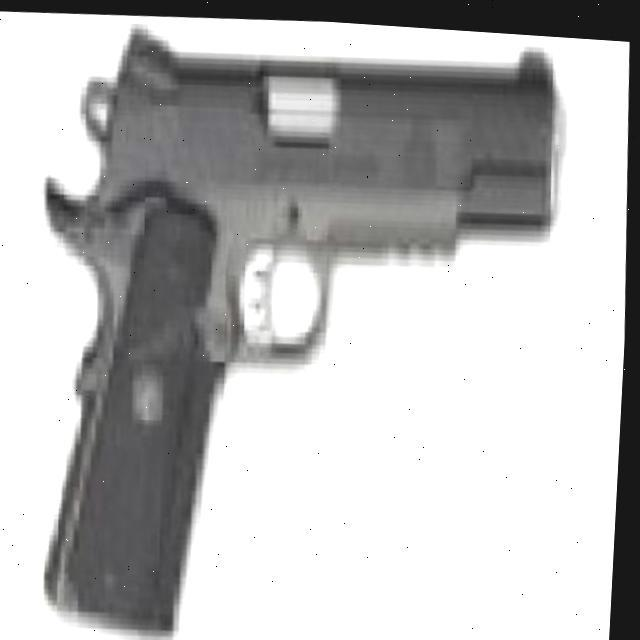gun: (16, 2, 585, 640)
